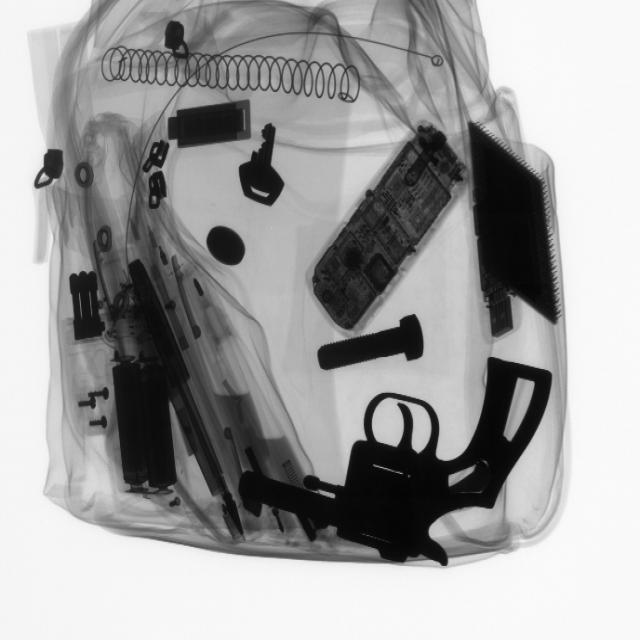GUN: (251, 350, 565, 568)
